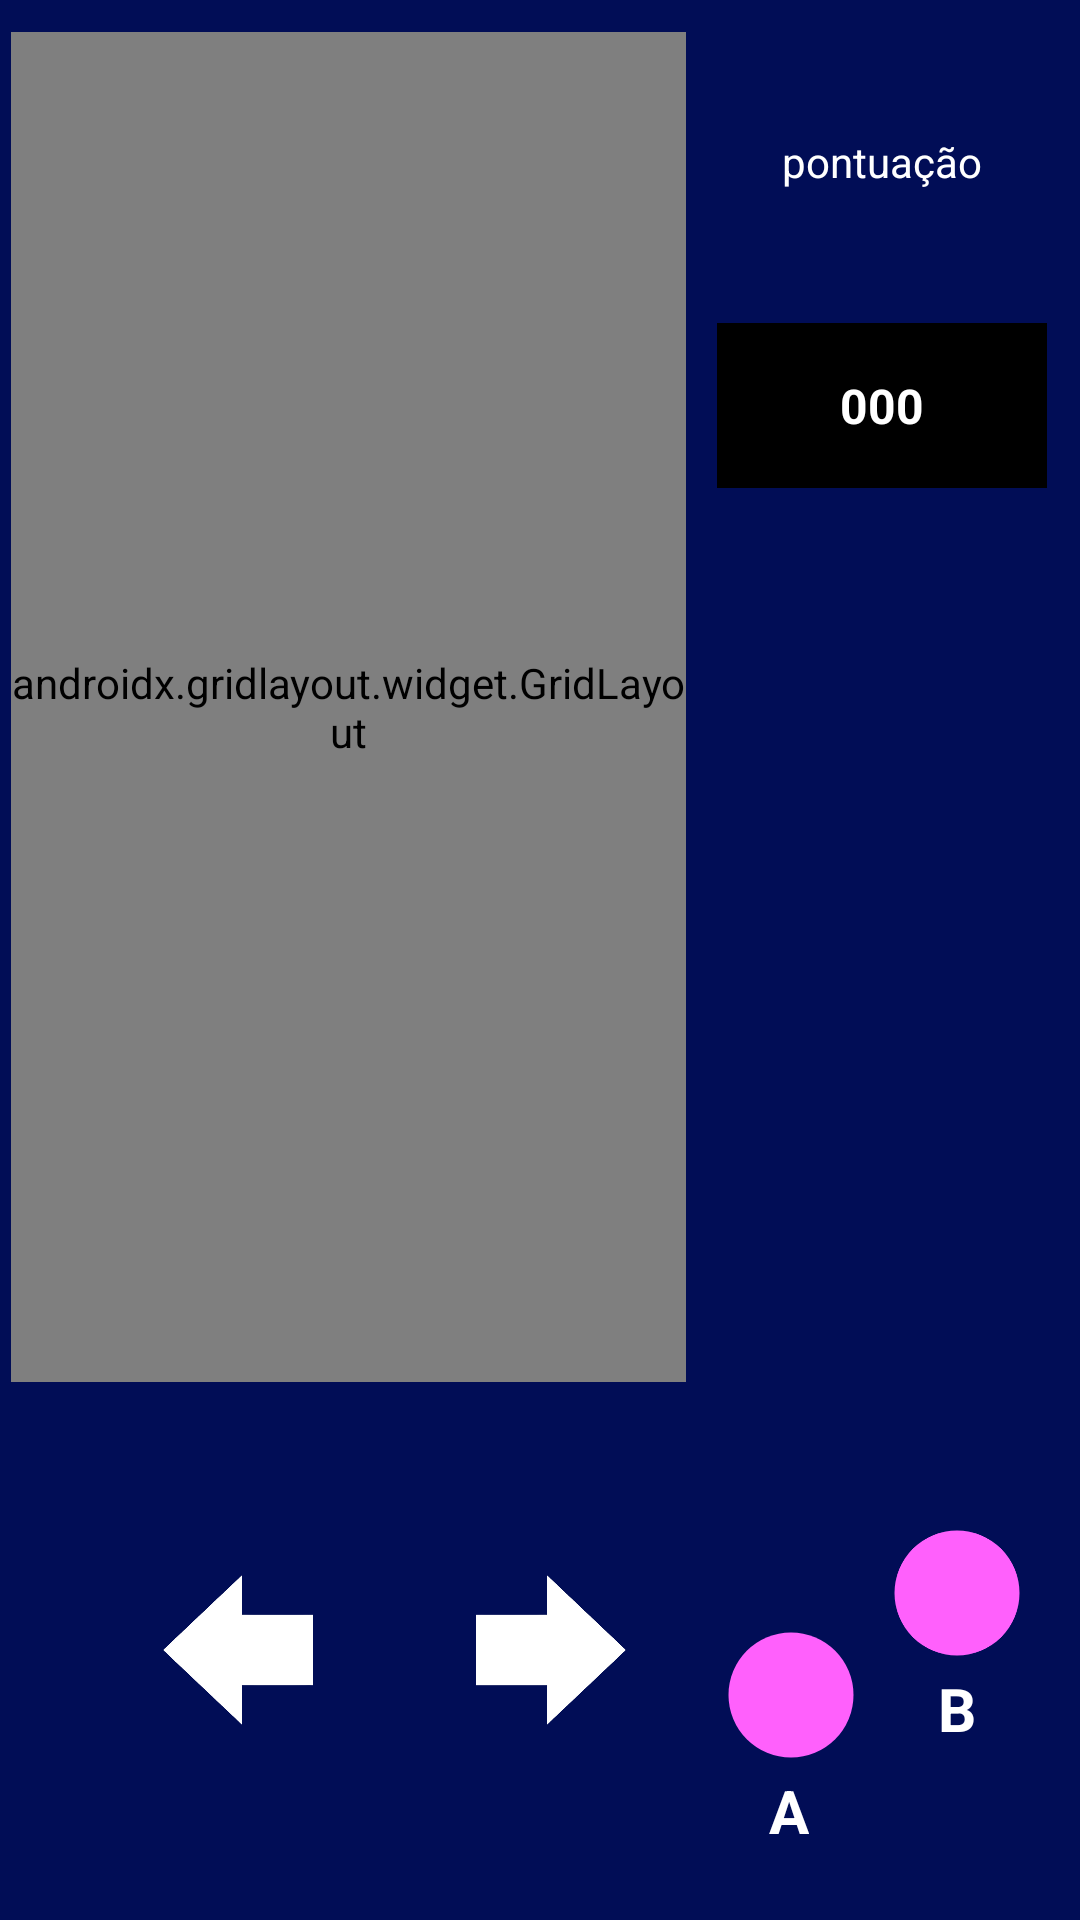

Locate icon controls on the screen. Image size 1080px×1920px, boxes as (x1, y1, x2, y2).
seta direita: (476, 1575, 626, 1725)
seta esquerda: (163, 1575, 313, 1725)
